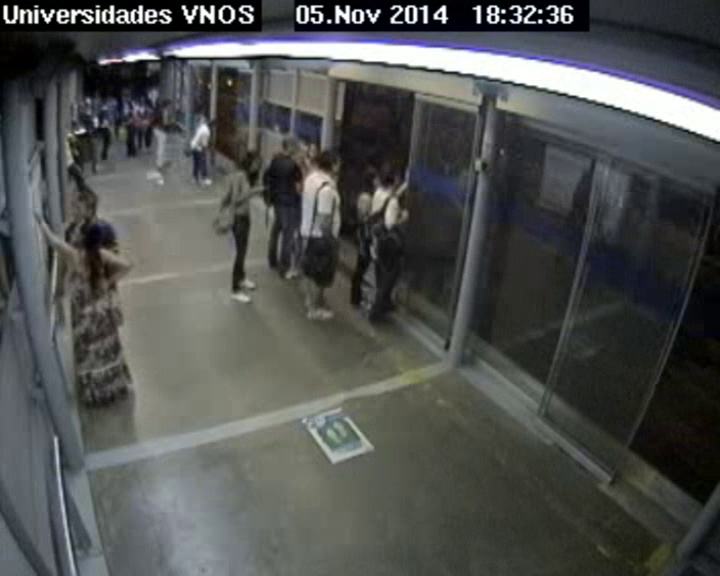person: (71, 190, 102, 221), (319, 149, 345, 176), (76, 224, 100, 250), (238, 149, 260, 176), (359, 168, 380, 191), (378, 163, 399, 186), (94, 222, 115, 244), (306, 141, 323, 160), (278, 138, 295, 155), (210, 118, 222, 131), (60, 122, 72, 134), (162, 98, 172, 109), (84, 97, 94, 108), (173, 101, 184, 111), (70, 121, 80, 131), (122, 88, 131, 97), (114, 118, 123, 127), (99, 108, 107, 118), (200, 104, 208, 113), (139, 95, 147, 103), (124, 101, 132, 109), (94, 90, 102, 98), (106, 94, 113, 102)
